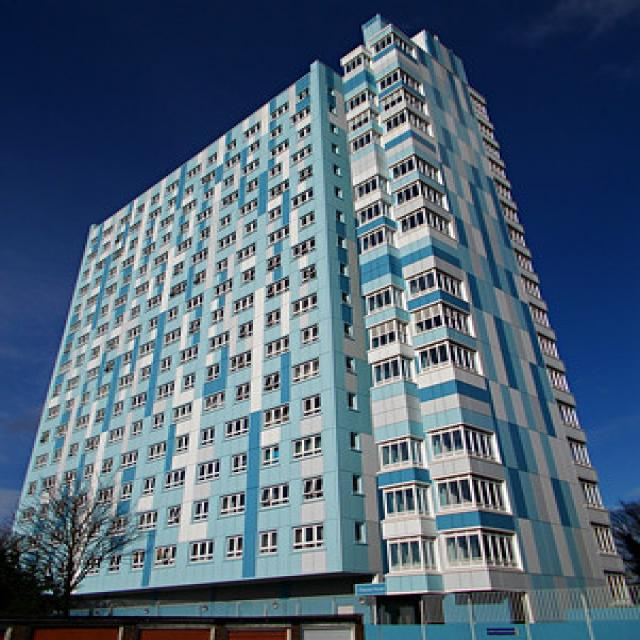Normal_building: (17, 17, 638, 640)
